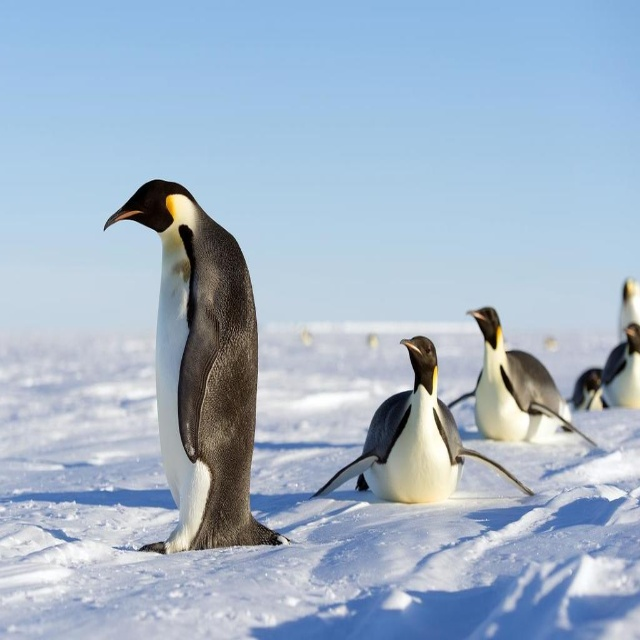Penguin: (104, 173, 295, 557), (312, 331, 534, 503), (444, 302, 592, 452), (604, 325, 640, 407), (570, 369, 605, 407)
